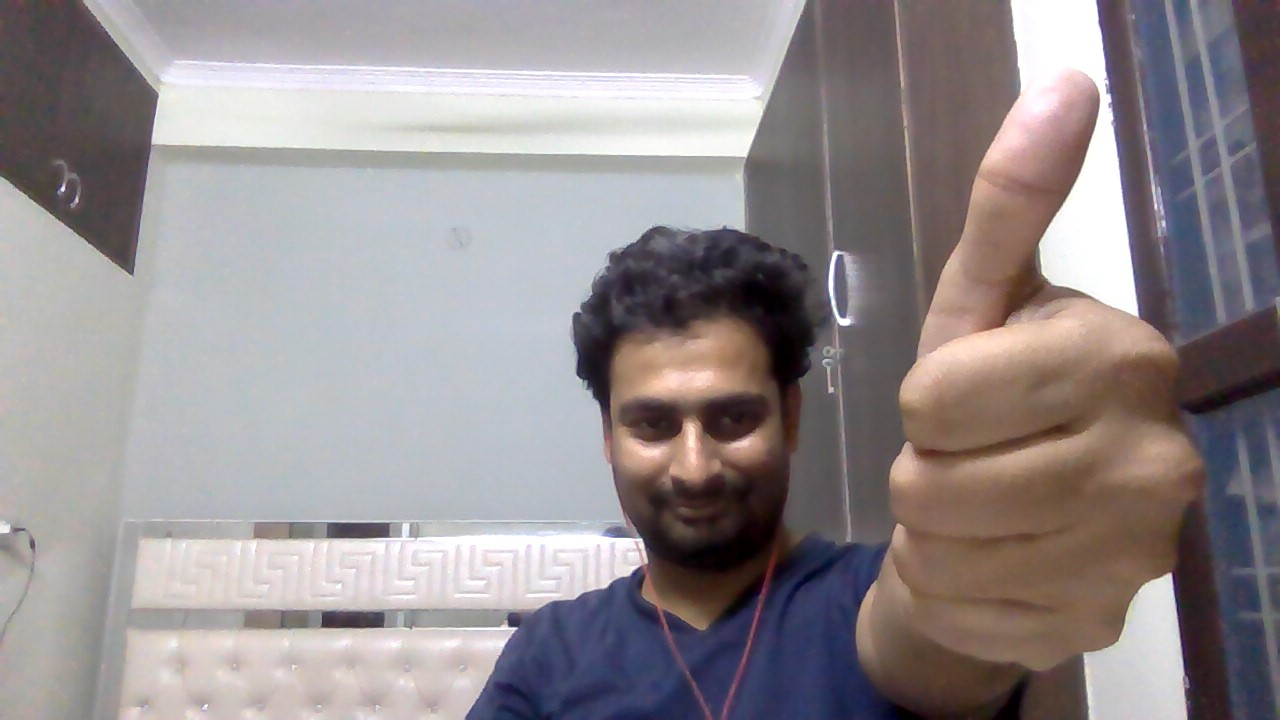Save: (878, 56, 1223, 680)
